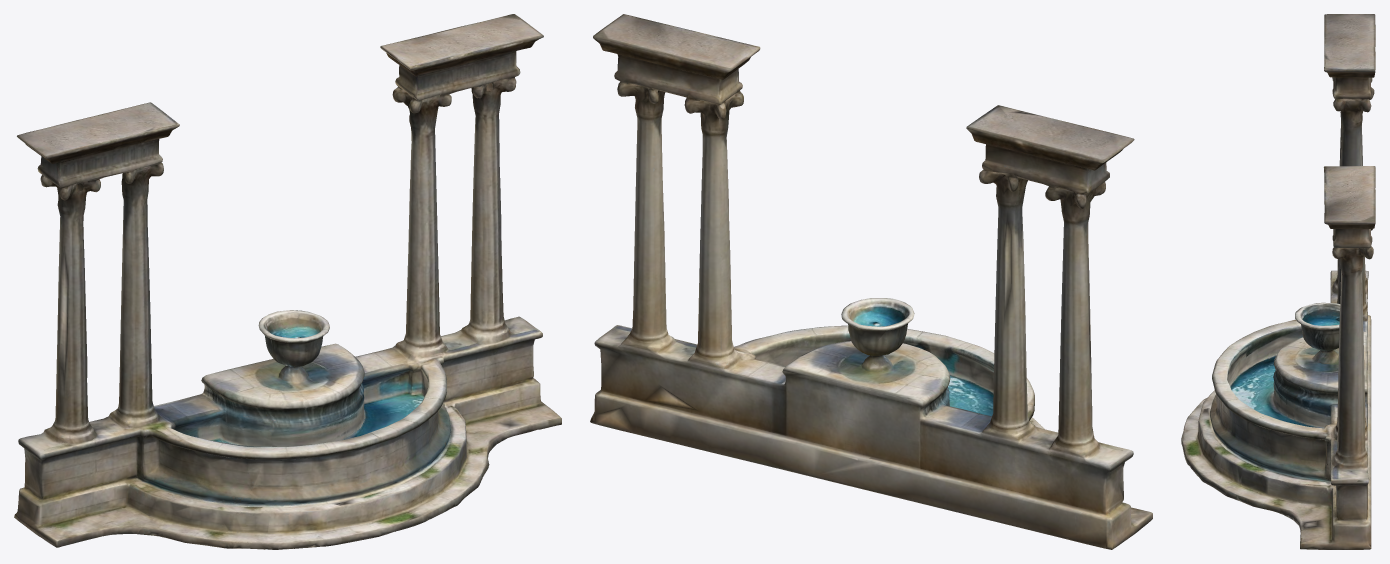
The model's file is fountain_temple.glb.
3 renders of one model, left to right at view 1: azimuth 30°, elevation 25°; view 2: azimuth 150°, elevation 25°; view 3: azimuth 270°, elevation 25°, orthographic. The views are drawn at different scales.
Visible parts, largest first — view 1: fountain_temple; view 2: fountain_temple; view 3: fountain_temple.
Boxes of the visible parts, x1,y1,x2,y2 form: fountain_temple: (14,14,561,549); fountain_temple: (590,14,1152,549); fountain_temple: (1181,14,1375,549).
Size of the model in its own units: 2 by 1.43 by 0.7715.
Materials: 1 (1 with a texture image).
